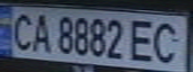2: (103, 15, 130, 61)
8: (51, 12, 75, 55), (87, 15, 109, 58), (72, 14, 90, 56)
A: (27, 10, 54, 53)
C: (148, 19, 190, 65), (6, 10, 36, 52)
E: (127, 16, 160, 63)
